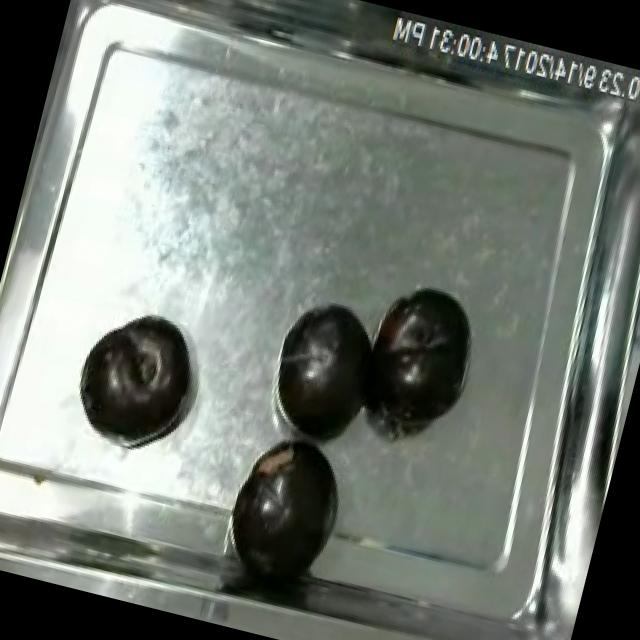Fruit: (216, 421, 362, 590), (66, 298, 212, 461), (356, 272, 491, 440), (264, 290, 398, 456)
